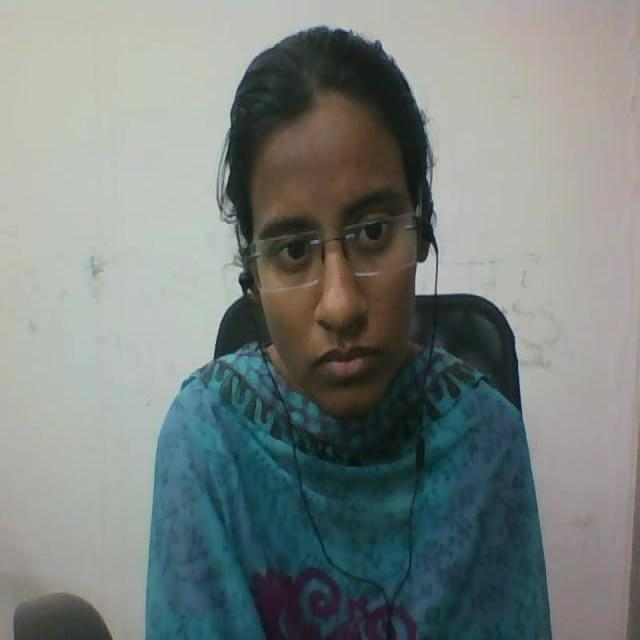Engaged: (181, 4, 479, 484)
